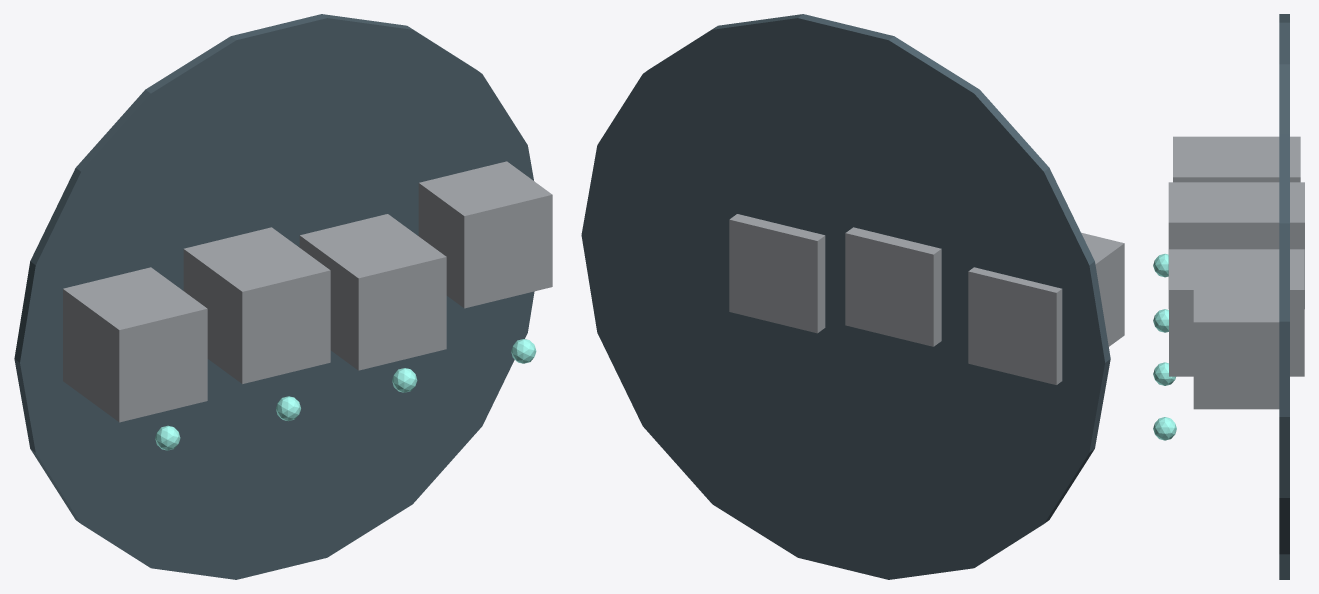
File: 02_local_prop_cluster.glb
3 renders of one model, left to right at view 1: azimuth 30°, elevation 25°; view 2: azimuth 150°, elevation 25°; view 3: azimuth 270°, elevation 25°, orthographic. The views are drawn at different scales.
Parts seen in each view (by area): view 1: scatter_base, tech_crate_0, tech_crate_1, tech_crate_2, tech_crate_3; view 2: scatter_base, tech_crate_0, tech_crate_1, tech_crate_2; view 3: tech_crate_3, tech_crate_1, tech_crate_2, scatter_base, tech_crate_0, status_light_3, status_light_2, status_light_1, status_light_0.
Part boxes in pixels (x1,y1,x2,y2): scatter_base: (14,14,534,579); tech_crate_0: (63,267,207,422); tech_crate_1: (183,227,330,383); tech_crate_2: (299,214,446,370); tech_crate_3: (418,161,552,308); scatter_base: (581,14,1110,579); tech_crate_0: (968,232,1124,384); tech_crate_1: (845,227,941,346); tech_crate_2: (729,214,825,333); tech_crate_3: (1193,282,1279,409); tech_crate_1: (1168,182,1304,308); tech_crate_2: (1169,249,1304,376); scatter_base: (1279,14,1289,579); tech_crate_0: (1173,136,1300,182); status_light_3: (1153,417,1176,440); status_light_2: (1153,362,1175,385); status_light_1: (1153,309,1168,332); status_light_0: (1153,253,1168,277).
Bounding box in the file's own units: 1.9 × 1.87 × 0.5076.
